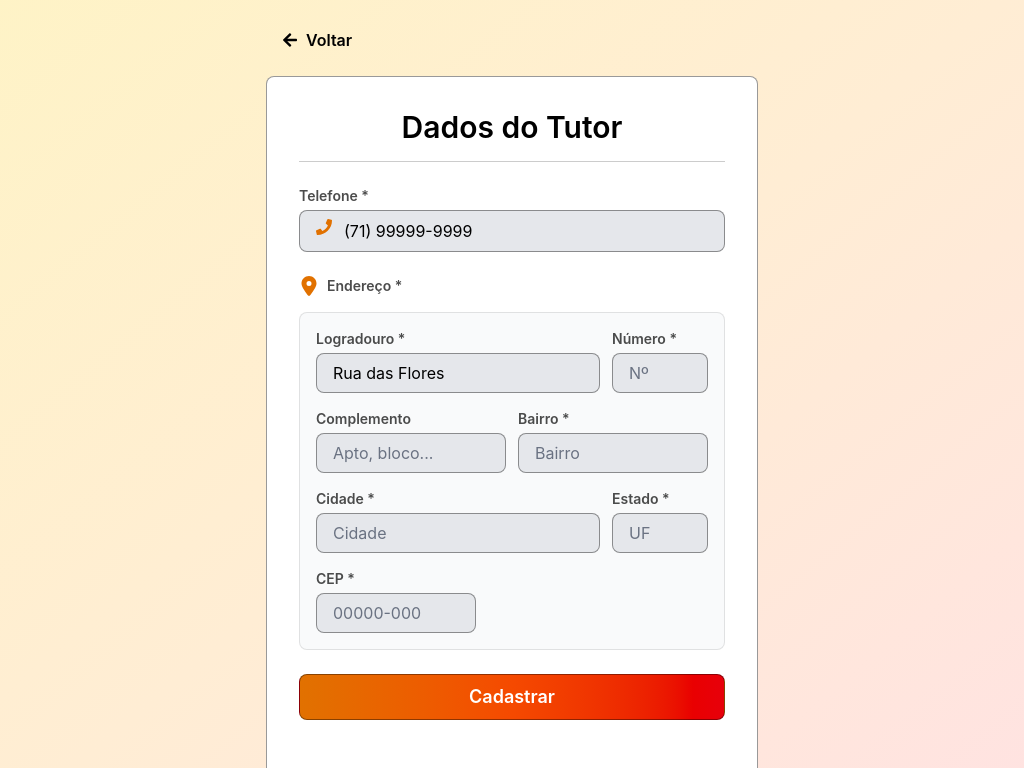
Test case: shows error when house number is empty
Click the button "Cadastrar": point(512, 697) [299, 674, 725, 720]
(page scrolled)
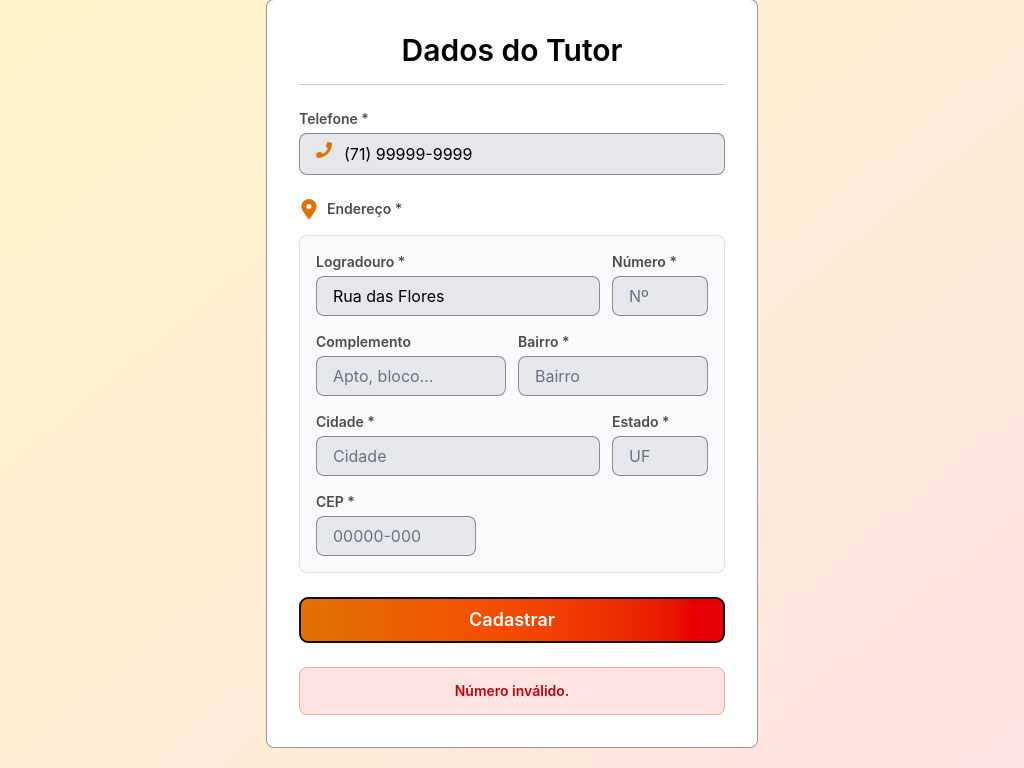
Expected: the text "Número inválido." is shown, [299, 667, 725, 715]
